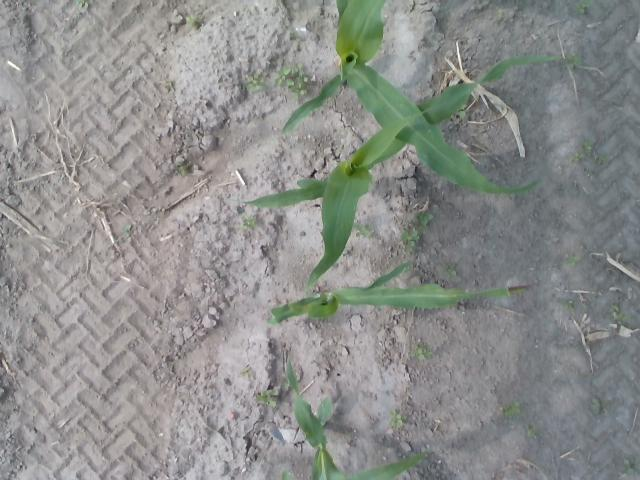Maize: (230, 55, 568, 286), (282, 0, 542, 195), (286, 357, 428, 480), (268, 261, 528, 325)
Weeds: (275, 66, 294, 85), (292, 64, 310, 84), (402, 229, 420, 248), (256, 390, 276, 406), (389, 411, 406, 428), (412, 342, 428, 359), (248, 74, 264, 90), (416, 212, 434, 226), (504, 402, 522, 416), (622, 458, 636, 475), (122, 224, 136, 240), (243, 216, 257, 230), (354, 225, 370, 237), (566, 254, 580, 266), (526, 422, 537, 436), (294, 83, 307, 94), (76, 0, 90, 10), (592, 399, 602, 413), (185, 13, 195, 26), (614, 305, 622, 321), (240, 366, 250, 378), (566, 58, 578, 68), (583, 140, 593, 151), (496, 10, 506, 21), (574, 152, 584, 162), (594, 152, 604, 162), (280, 469, 290, 479), (447, 263, 456, 274), (580, 4, 589, 12), (177, 165, 185, 174)
